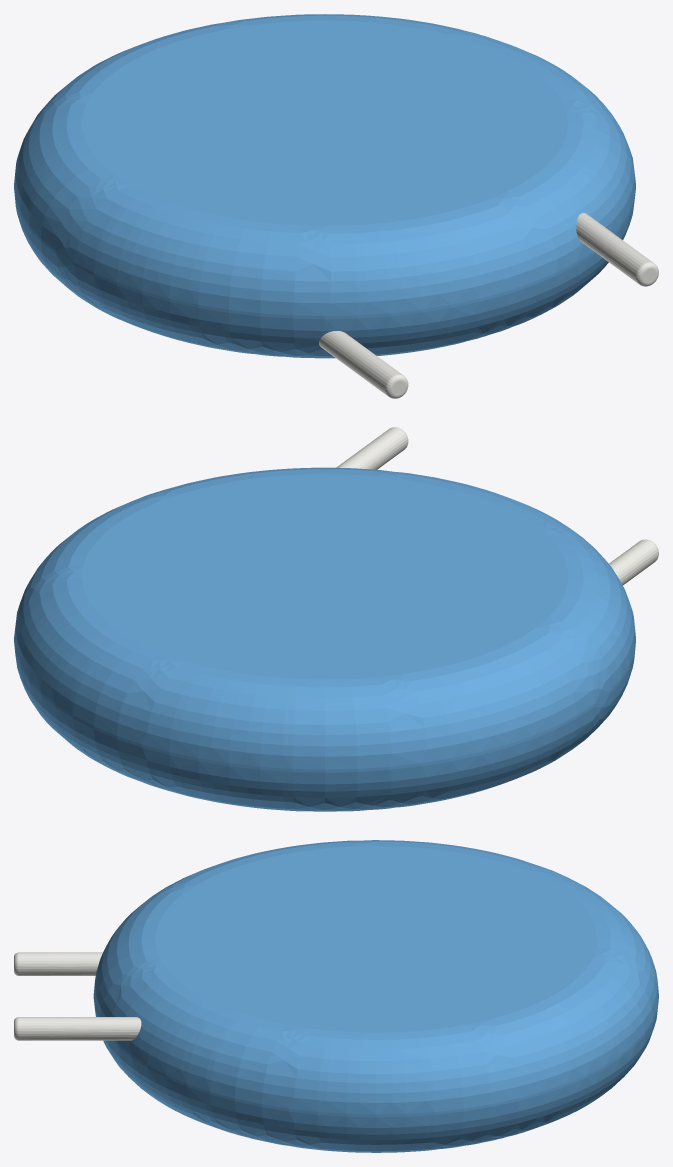
Rendered from RV_Disc_D21.5mm_W4.8mm_P10mm.glb.
3 renders of one model, top to bottom at view 1: azimuth 30°, elevation 25°; view 2: azimuth 150°, elevation 25°; view 3: azimuth 270°, elevation 25°, orthographic. The views are drawn at different scales.
Parts seen in each view (by area): view 1: Shape_IndexedFaceSet.003, Shape_IndexedFaceSet.001, Shape_IndexedFaceSet.002, Shape_IndexedFaceSet, Shape_IndexedFaceSet.006, Shape_IndexedFaceSet.004; view 2: Shape_IndexedFaceSet.003, Shape_IndexedFaceSet.001, Shape_IndexedFaceSet.002, Shape_IndexedFaceSet, Shape_IndexedFaceSet.004, Shape_IndexedFaceSet.006; view 3: Shape_IndexedFaceSet.003, Shape_IndexedFaceSet.001, Shape_IndexedFaceSet.002, Shape_IndexedFaceSet.004, Shape_IndexedFaceSet.006, Shape_IndexedFaceSet.
Boxes of the visible parts, x1,y1,x2,y2 form: Shape_IndexedFaceSet.003: [82, 20, 568, 225]; Shape_IndexedFaceSet.001: [14, 14, 635, 316]; Shape_IndexedFaceSet.002: [14, 192, 635, 358]; Shape_IndexedFaceSet: [14, 186, 635, 319]; Shape_IndexedFaceSet.006: [319, 331, 402, 395]; Shape_IndexedFaceSet.004: [576, 213, 652, 283]; Shape_IndexedFaceSet.003: [81, 474, 567, 679]; Shape_IndexedFaceSet.001: [14, 467, 635, 769]; Shape_IndexedFaceSet.002: [14, 643, 635, 811]; Shape_IndexedFaceSet: [14, 640, 635, 772]; Shape_IndexedFaceSet.004: [336, 427, 407, 469]; Shape_IndexedFaceSet.006: [609, 540, 658, 585]; Shape_IndexedFaceSet.003: [155, 846, 597, 1032]; Shape_IndexedFaceSet.001: [93, 840, 658, 1114]; Shape_IndexedFaceSet.002: [94, 1002, 658, 1152]; Shape_IndexedFaceSet.004: [18, 1017, 141, 1040]; Shape_IndexedFaceSet.006: [18, 952, 102, 975]; Shape_IndexedFaceSet: [93, 996, 658, 1117].
Size of the model in its own units: 8.47 by 1.89 by 9.66.
